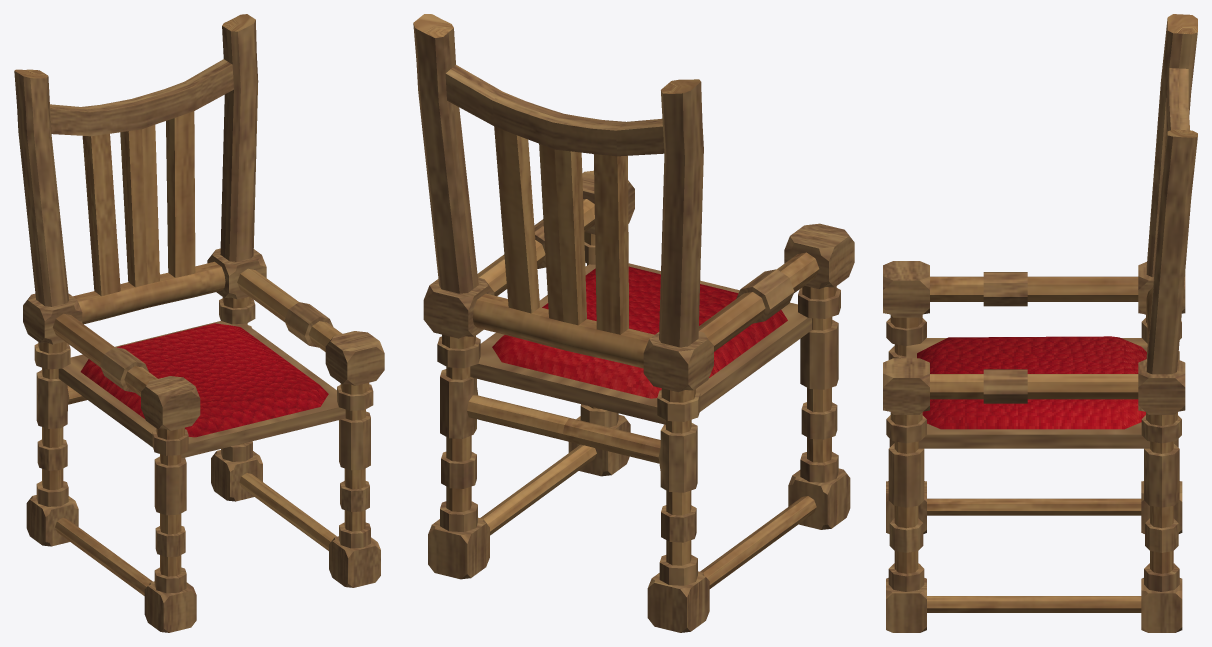
File: OldChair.fbx
3 views of the same model, side by side, from view 1: azimuth 30°, elevation 25°; view 2: azimuth 150°, elevation 25°; view 3: azimuth 270°, elevation 25° (orthographic). The views are drawn at different scales.
Parts seen in each view (by area): view 1: Cube, Cube.002, Cube.001; view 2: Cube, Cube.002, Cube.001; view 3: Cube, Cube.002, Cube.001.
Part boxes in pixels (left/top/right/bottom): Cube: left=14, top=14, right=384, bottom=632; Cube.002: left=80, top=323, right=328, bottom=437; Cube.001: left=58, top=321, right=345, bottom=458; Cube: left=413, top=14, right=854, bottom=632; Cube.002: left=492, top=266, right=787, bottom=398; Cube.001: left=470, top=263, right=812, bottom=424; Cube: left=883, top=14, right=1197, bottom=632; Cube.002: left=917, top=336, right=1146, bottom=429; Cube.001: left=906, top=338, right=1149, bottom=448.
Size of the model in its own units: 68.78 by 131 by 74.41.
